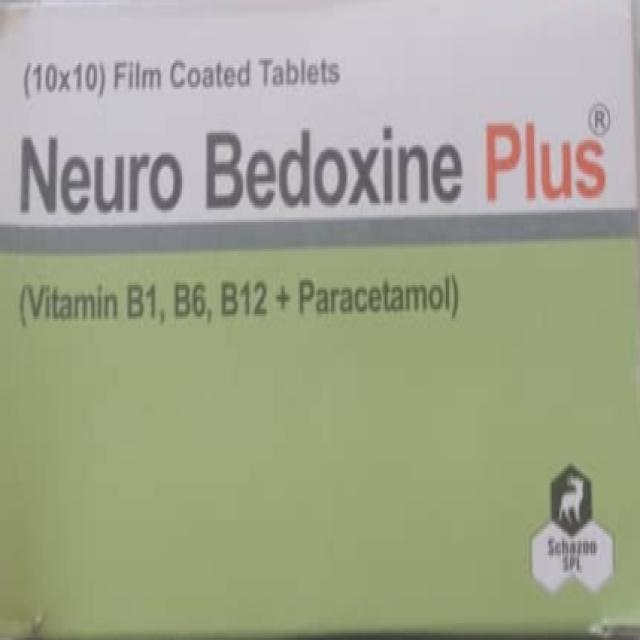drug-name: (14, 120, 614, 214)
